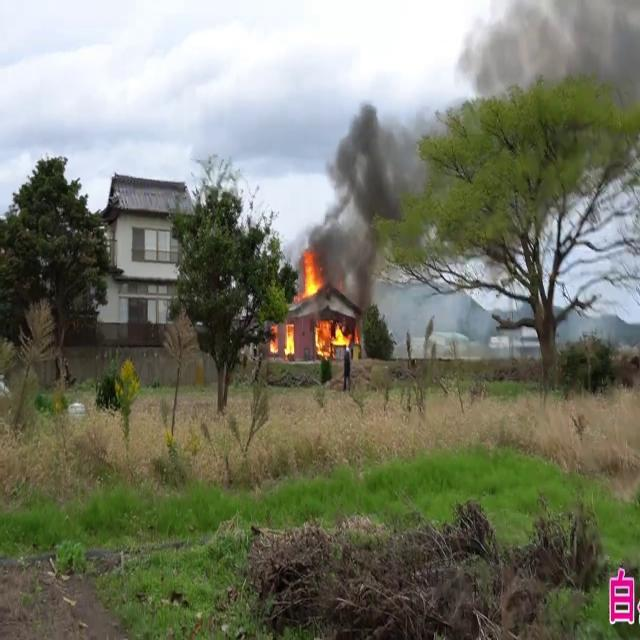Fire: (313, 310, 357, 356), (268, 318, 298, 361), (300, 247, 324, 300)
Smoke: (308, 82, 427, 299), (455, 0, 640, 127)
